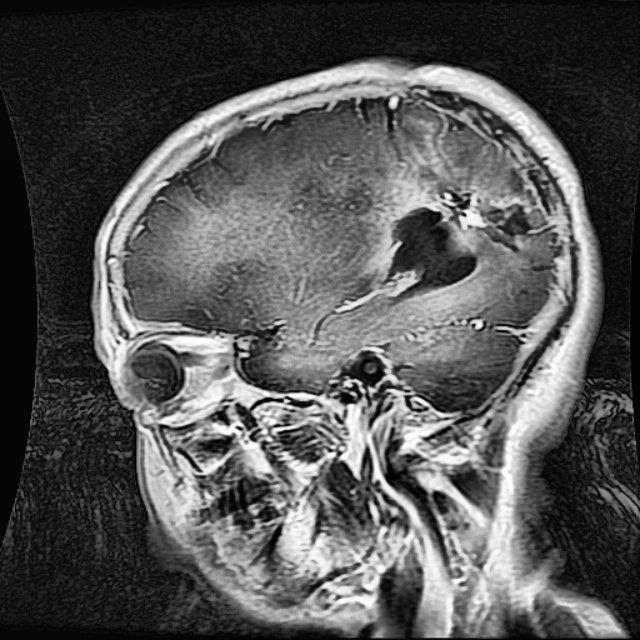Meningioma: (387, 184, 538, 299)
